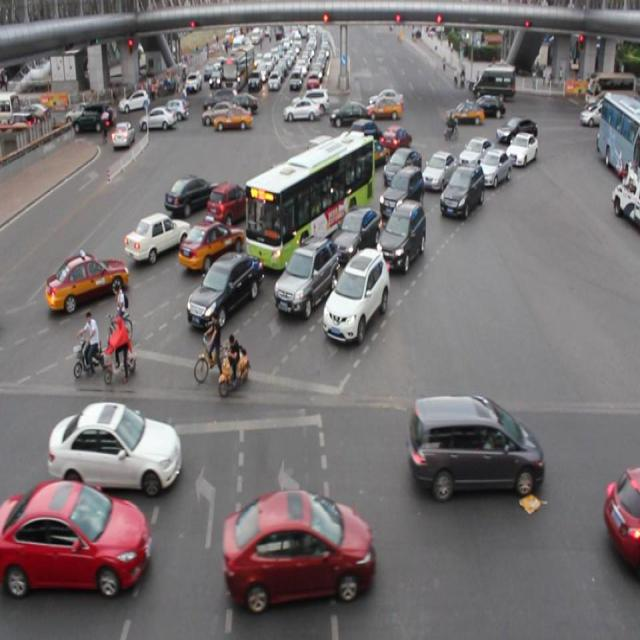car: (224, 487, 372, 601), (1, 483, 148, 592), (48, 400, 181, 489), (324, 249, 389, 344), (187, 252, 262, 326), (46, 250, 130, 309), (274, 239, 339, 312), (604, 461, 640, 575), (378, 198, 424, 271), (180, 221, 243, 271), (124, 213, 188, 260), (330, 206, 382, 263), (439, 160, 484, 220), (377, 165, 424, 218), (262, 157, 308, 200), (166, 174, 216, 213), (206, 183, 252, 225), (314, 151, 356, 193), (382, 146, 420, 190), (496, 114, 537, 152), (476, 148, 510, 189), (350, 133, 389, 168), (457, 135, 492, 171), (346, 118, 382, 153), (421, 152, 455, 187), (504, 131, 536, 168), (378, 125, 411, 156)
truck: (408, 391, 542, 497), (300, 135, 343, 177)
van: (245, 134, 372, 270)
